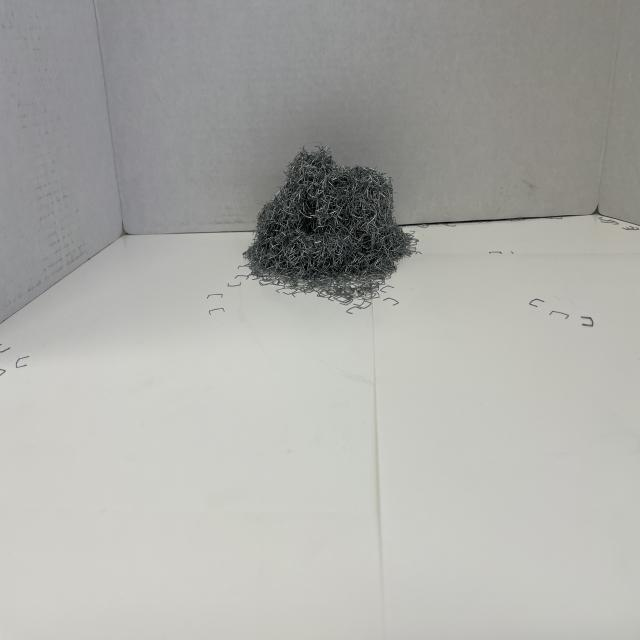staples: (241, 142, 419, 290)
